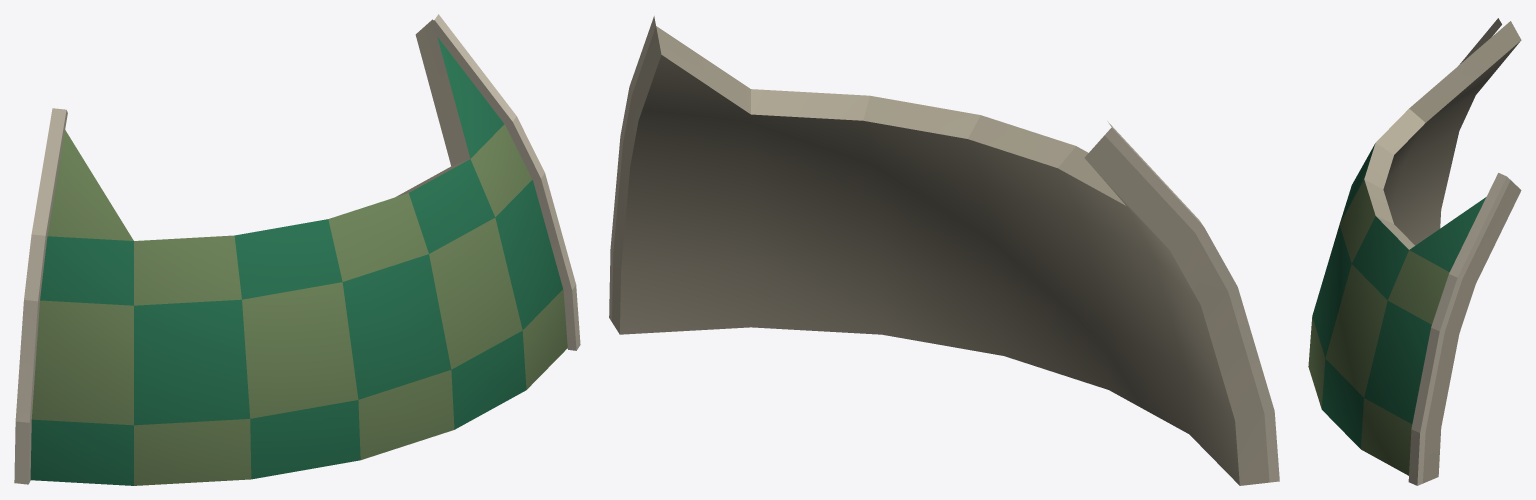
The model's file is dome.panel_4_broken.green.glb.
The picture shows the model from 3 angles, left to right: view 1: azimuth 30°, elevation 25°; view 2: azimuth 150°, elevation 25°; view 3: azimuth 270°, elevation 25°; orthographic projection. The views are drawn at different scales.
Visible parts, largest first — view 1: dome_panel_4_broken_green; view 2: dome_panel_4_broken_green; view 3: dome_panel_4_broken_green.
Boxes of the visible parts, x1=… form: dome_panel_4_broken_green: x1=14, y1=14, x2=580, y2=485; dome_panel_4_broken_green: x1=609, y1=16, x2=1279, y2=485; dome_panel_4_broken_green: x1=1308, y1=18, x2=1521, y2=485.
Size of what is drawn, in the model's own units: 5.05 by 2.68 by 1.91.
